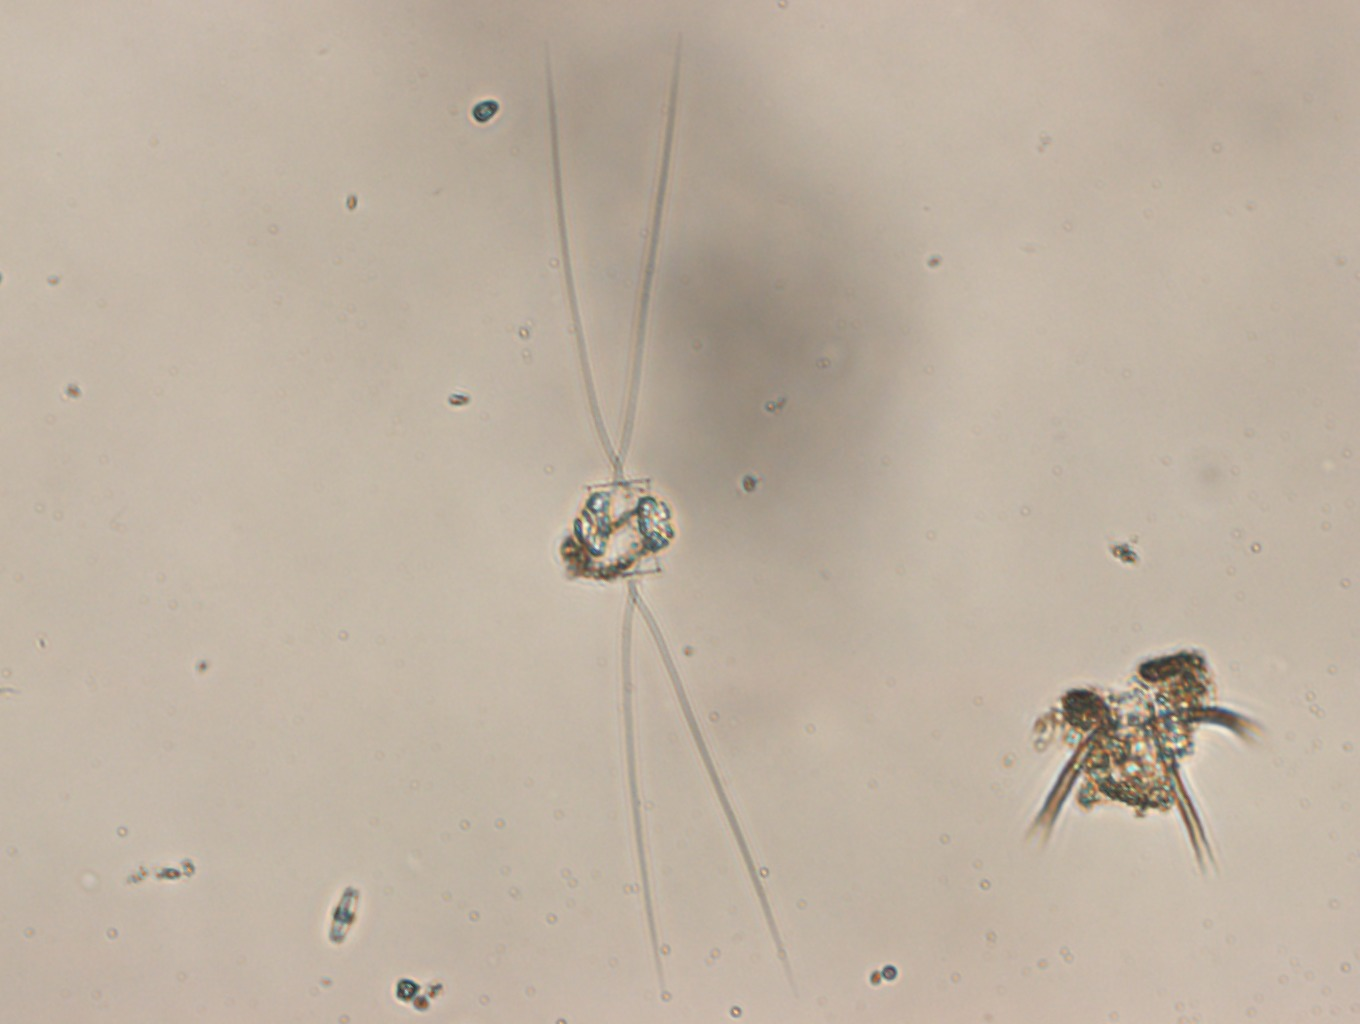chaetoceros: (538, 35, 790, 994)
